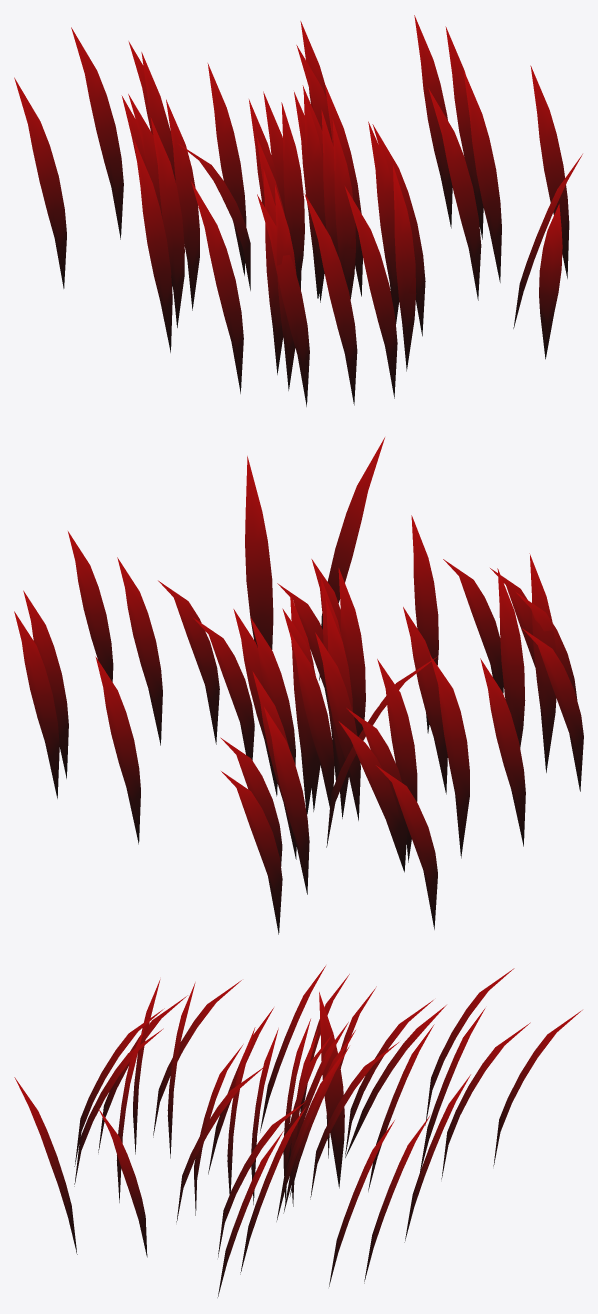
The model's file is Grass.fbx.
The picture shows the model from 3 angles, top to bottom: view 1: azimuth 30°, elevation 25°; view 2: azimuth 150°, elevation 25°; view 3: azimuth 270°, elevation 25°; orthographic projection. The views are drawn at different scales.
Parts seen in each view (by area): view 1: Grass; view 2: Grass; view 3: Grass.
Boxes of the visible parts, x1,y1,x2,y2 form: Grass: (14,15,582,406); Grass: (14,437,583,934); Grass: (14,966,582,1297).
Bounding box in the file's own units: 2.53 × 1.21 × 3.38.
